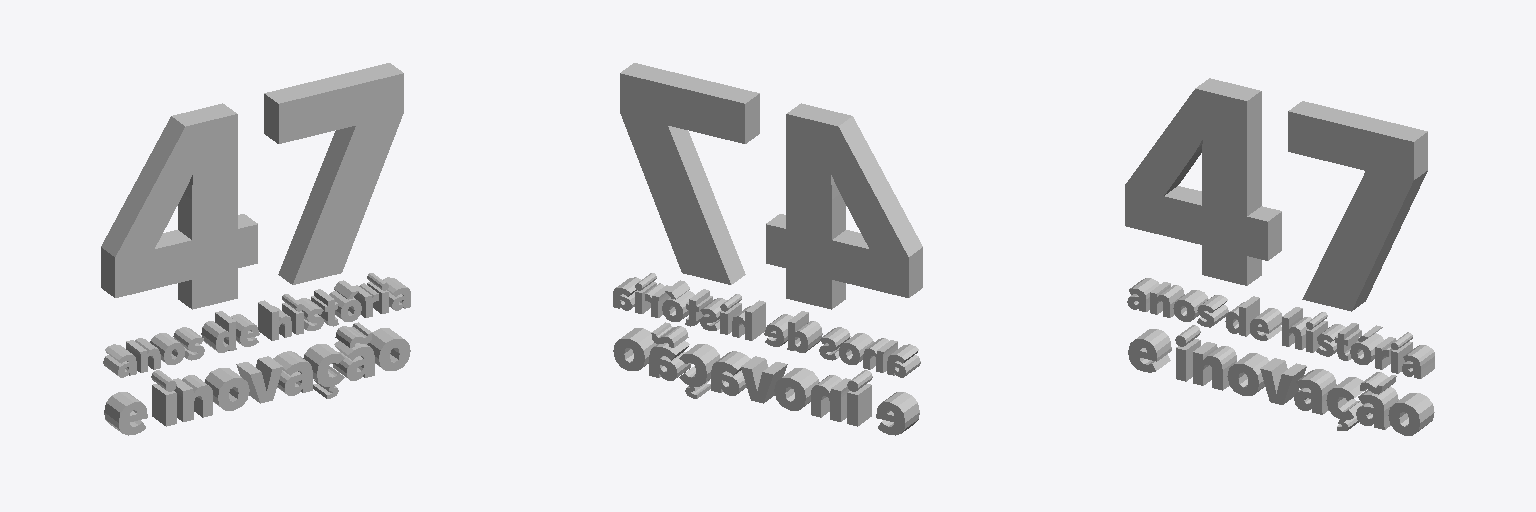
3 renders of one model, left to right at view 1: azimuth 30°, elevation 25°; view 2: azimuth 150°, elevation 25°; view 3: azimuth 330°, elevation 25°, orthographic.
Visible parts, largest first — view 1: obj_0; view 2: obj_0; view 3: obj_0.
Boxes of the visible parts, box(x1,y1,x2,y2) form: obj_0: box(101, 63, 410, 435); obj_0: box(613, 63, 922, 435); obj_0: box(1125, 78, 1434, 435).
Bounding box in the file's own units: 688 × 683 × 58.